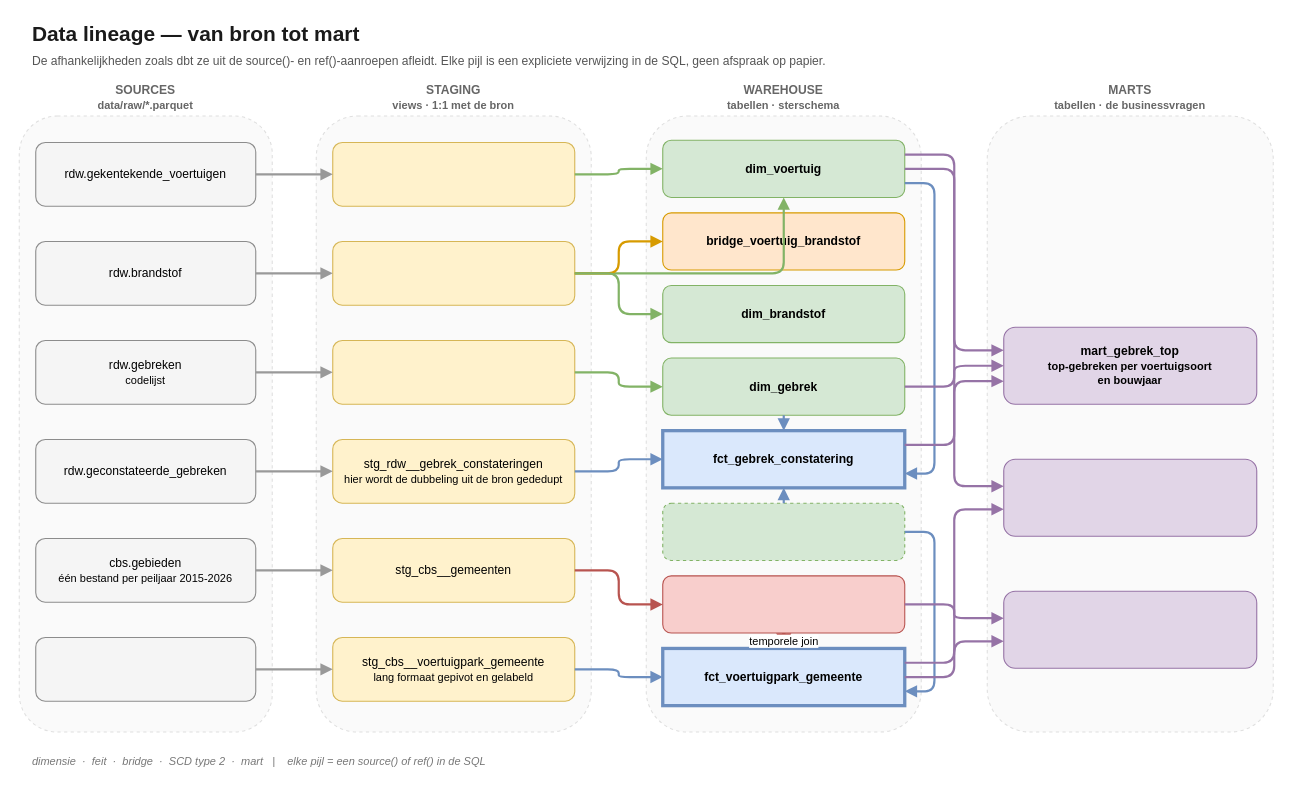
Image size: 1293x790. Some labels were removed from this diagram. Each missing label, with the box of its shape:
cbs.70072ned motorvoertuigen per gemeente: (35, 636, 256, 701)
dim_datum gegenereerd, geen bron: (662, 502, 905, 560)
dim_gemeente SCD type 2: (662, 575, 905, 633)
mart_rdw_cbs_aansluiting steekproef naast het CBS-park: (1003, 458, 1257, 536)
mart_voertuigpark_herindeling park per gemeente en peiljaar, met herindeling: (1003, 590, 1257, 668)
stg_rdw__brandstof: (332, 240, 575, 305)
stg_rdw__gebreken: (332, 339, 575, 404)
stg_rdw__voertuigen: (332, 141, 575, 206)
